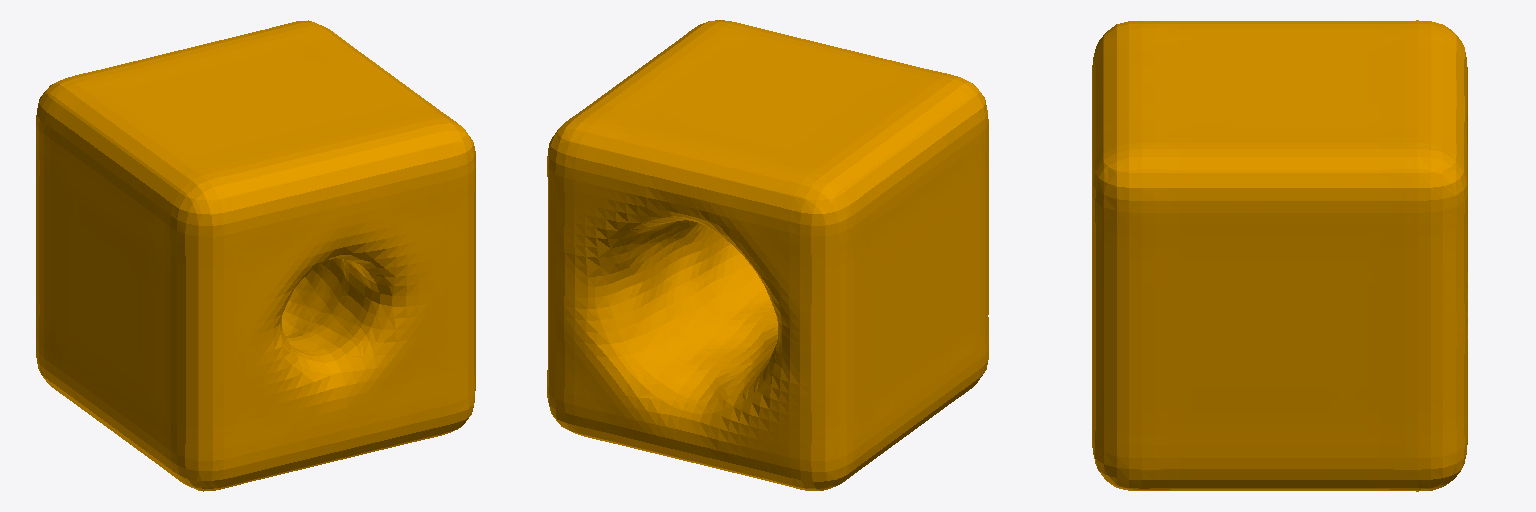
The robot description file, URDF, robot "L03_1":
<?xml version="1.0"?>
<robot name="L03_1">
  <link name="base_link">
    <inertial>
      <mass value="0.11755" />
      <origin xyz="0 0 0" />
      <inertia  ixx="0.0002" ixy="0.0"  ixz="0.0"  iyy="0.0002"  iyz="0.0" izz="0.0002" />
    </inertial>
    <visual>
      <geometry>
        <mesh filename="../../../meshes/egad/train/L03_1.obj" />
      </geometry>
    </visual>
    <collision>
      <geometry>
        <mesh filename="../../../meshes/egad/train/L03_1.obj" />
      </geometry>
    </collision>
  </link>
</robot>

--- What the picture shows (computed from the rendered views, not written in the file) ---
3 views of the same robot in one strip: view 1: azimuth 30°, elevation 25°; view 2: azimuth 150°, elevation 25°; view 3: azimuth 270°, elevation 25° (orthographic).
Robot: L03_1 — 1 links, 0 joints (none); root link base_link; default pose: all joints at 0.
Visible links, largest first — view 1: base_link; view 2: base_link; view 3: base_link.
Link boxes in pixels (x1,y1,x2,y2): base_link: [36, 20, 475, 491]; base_link: [547, 20, 988, 490]; base_link: [1092, 20, 1467, 491].
Size in the robot's own frame: 0.06 by 0.06 by 0.06 metres.
Meshes: 1 distinct files referenced, 1 mesh visuals loaded (1 OBJ).